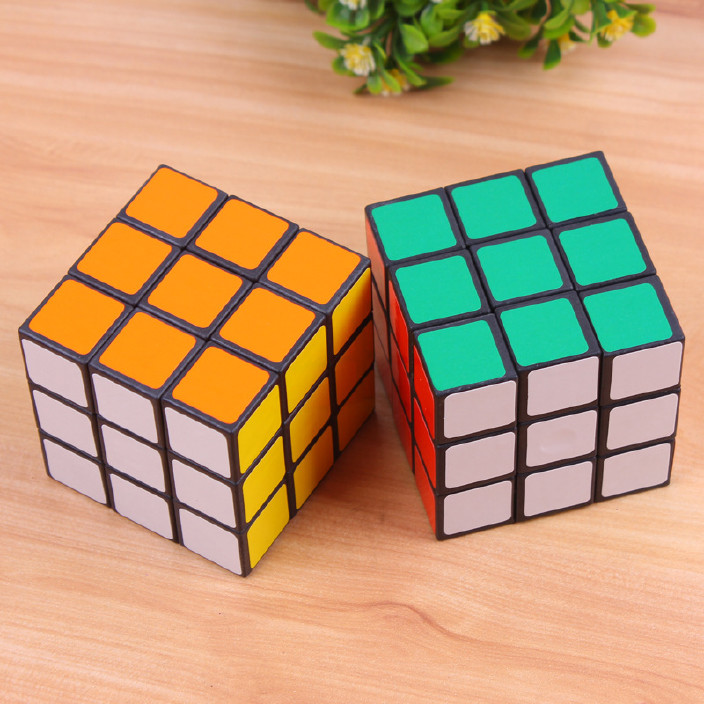cube: (15, 160, 375, 584), (362, 147, 689, 542)
